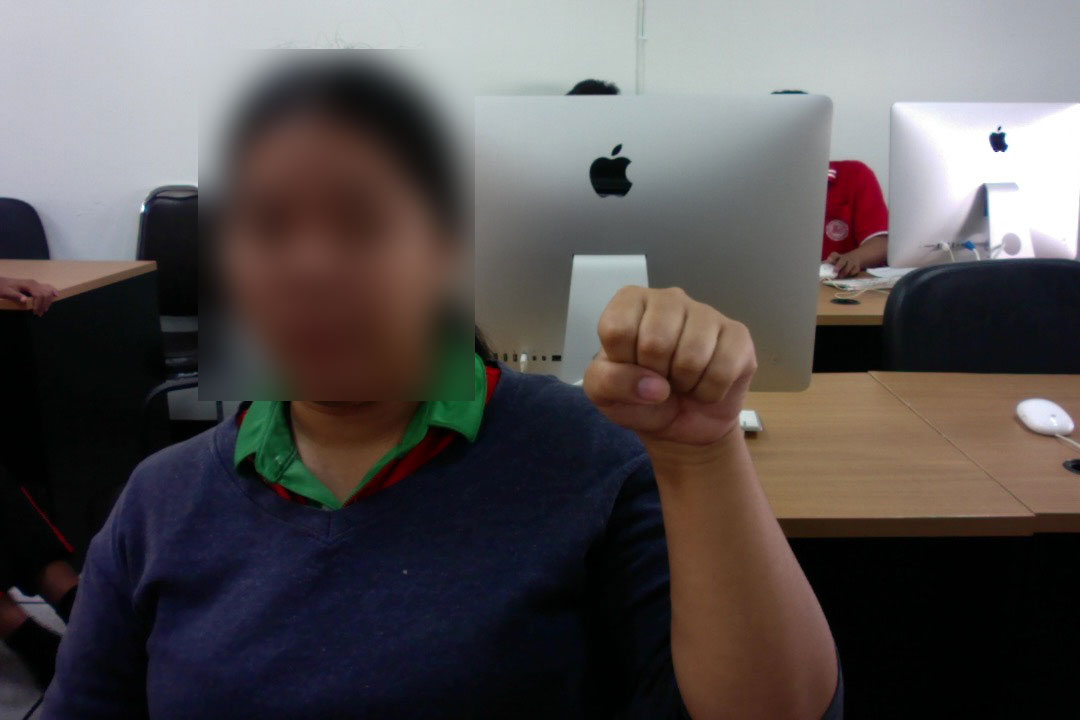sor: (578, 277, 766, 471)
